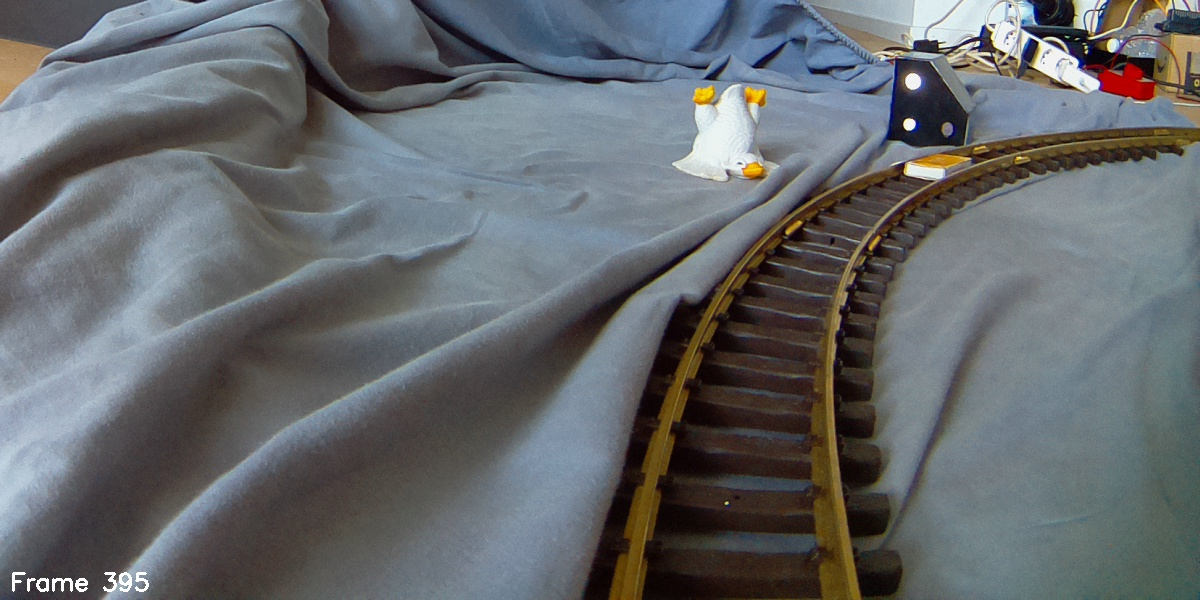Ente: (670, 83, 782, 193)
Fahrt: (889, 53, 971, 146)
